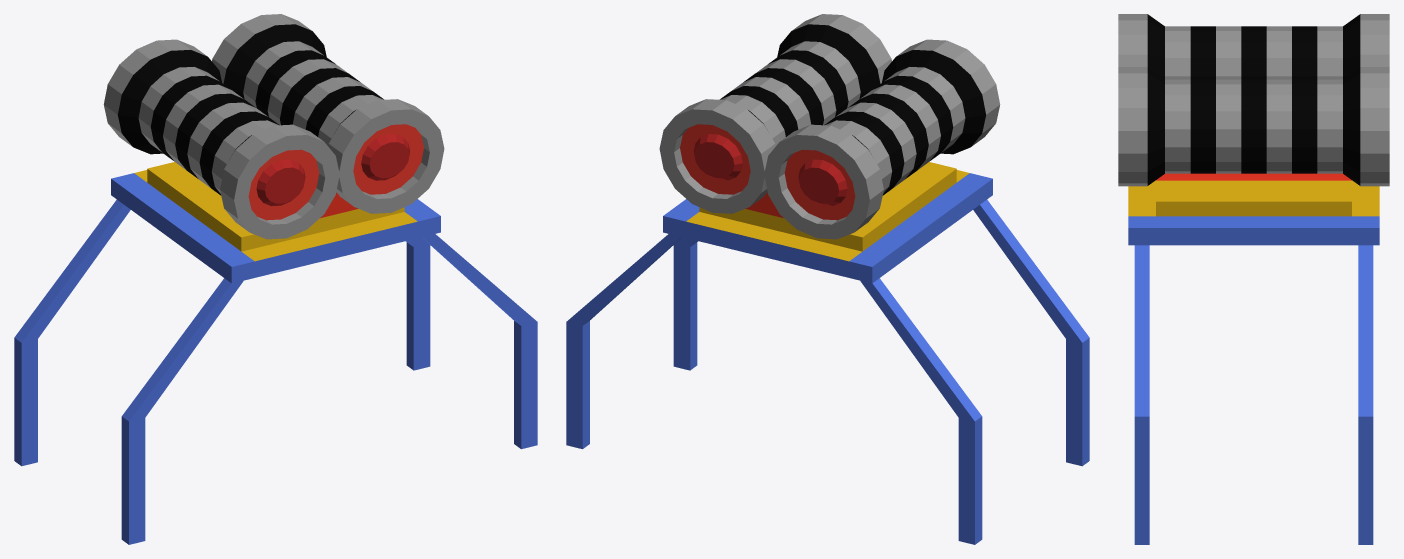
File: Robozinho Binóculo.fbx
3 views of the same model, side by side, from view 1: azimuth 30°, elevation 25°; view 2: azimuth 150°, elevation 25°; view 3: azimuth 270°, elevation 25° (orthographic). The views are drawn at different scales.
Parts seen in each view (by area): view 1: Cylinder, Cube; view 2: Cylinder, Cube; view 3: Cylinder, Cube.
Part boxes in pixels (x1,y1,x2,y2): Cylinder: (103,14,444,239); Cube: (14,162,537,544); Cylinder: (659,14,1000,239); Cube: (566,162,1089,544); Cylinder: (1118,14,1389,186); Cube: (1128,173,1379,544).
Bounding box in the file's own units: 391 × 346 × 216.
